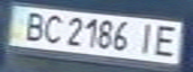1: (81, 16, 100, 50)
2: (63, 15, 84, 47)
6: (112, 18, 136, 53)
8: (96, 17, 115, 52)
B: (18, 9, 51, 43)
C: (36, 12, 66, 45)
E: (148, 21, 184, 57)
I: (133, 20, 160, 55)
